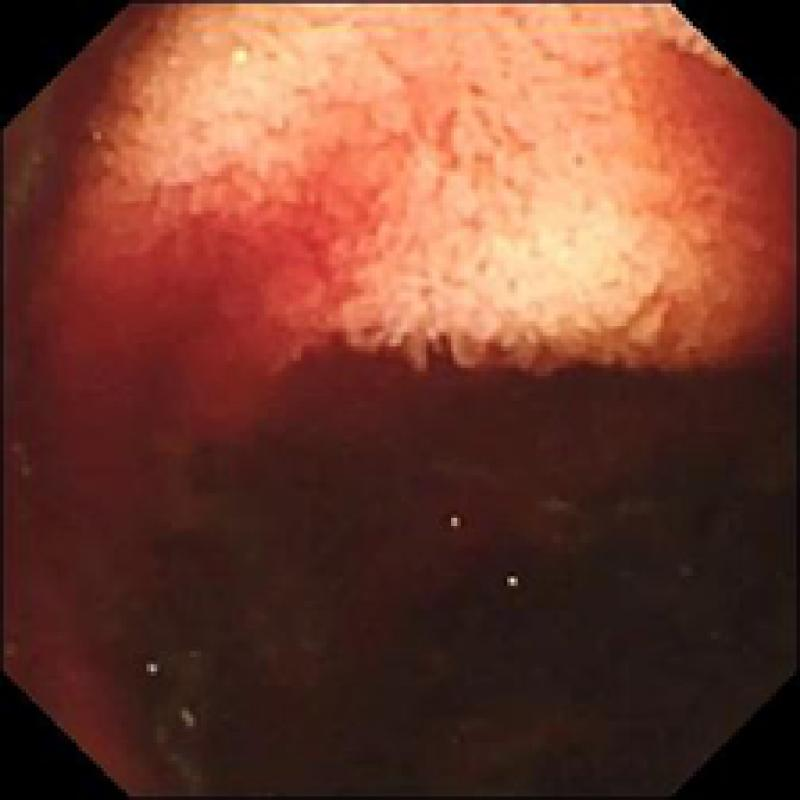bleeding: (0, 3, 632, 800)
